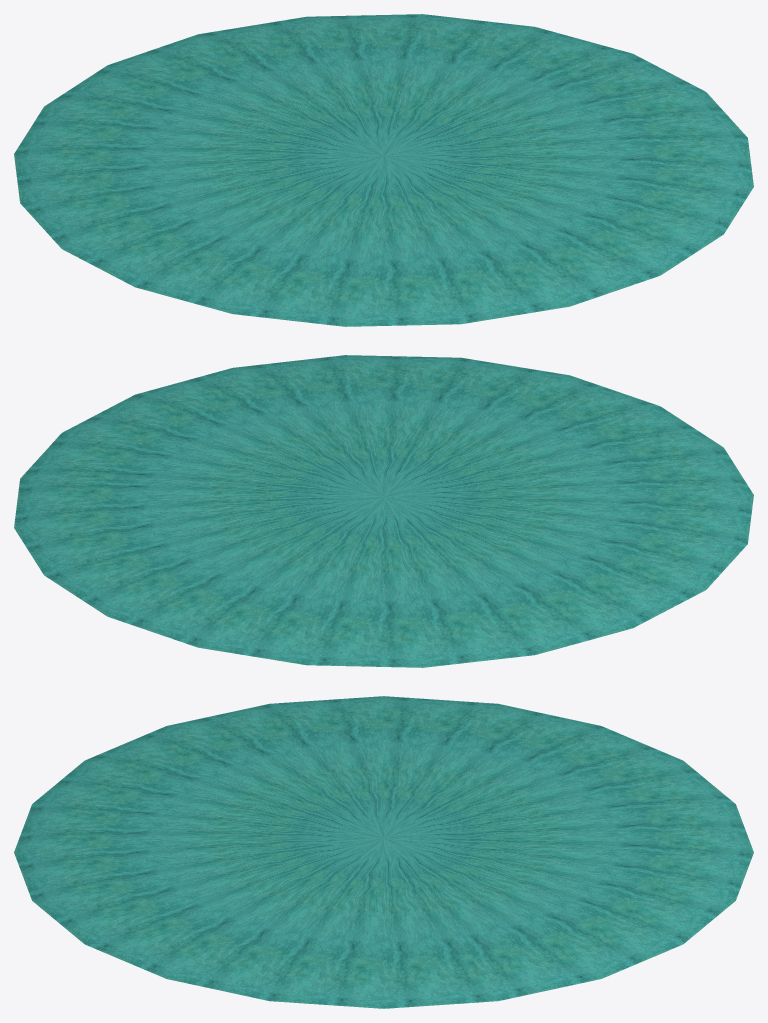
The model's file is Rug.fbx.
The picture shows the model from 3 angles, top to bottom: view 1: azimuth 30°, elevation 25°; view 2: azimuth 150°, elevation 25°; view 3: azimuth 270°, elevation 25°; orthographic projection.
Visible parts, largest first — view 1: pSphere1; view 2: pSphere1; view 3: pSphere1.
Boxes of the visible parts, x1,y1,x2,y2 form: pSphere1: (14, 14, 753, 326); pSphere1: (14, 355, 753, 667); pSphere1: (14, 696, 753, 1008).
Bounding box in the file's own units: 3.95 × 0.0844 × 3.95.
1 material, 1 textured.
